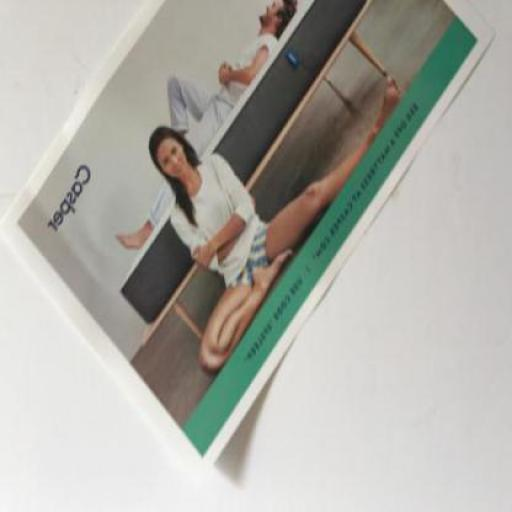paper: (0, 2, 495, 476)
